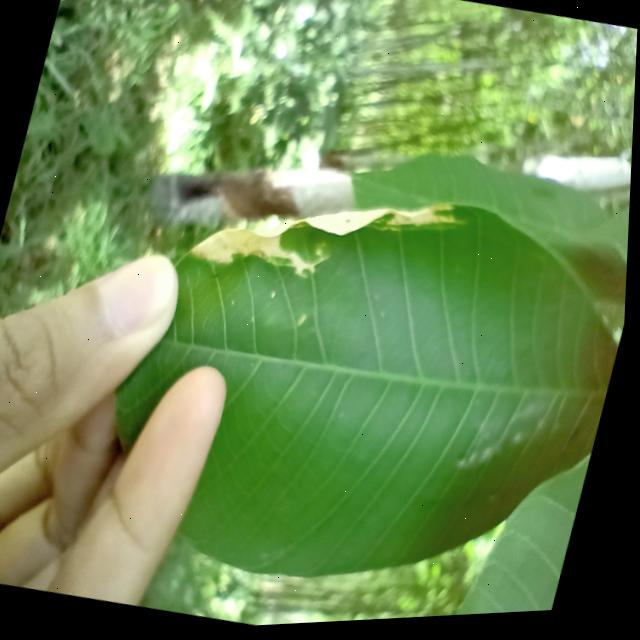Leaf-Blight: (188, 155, 461, 313)
